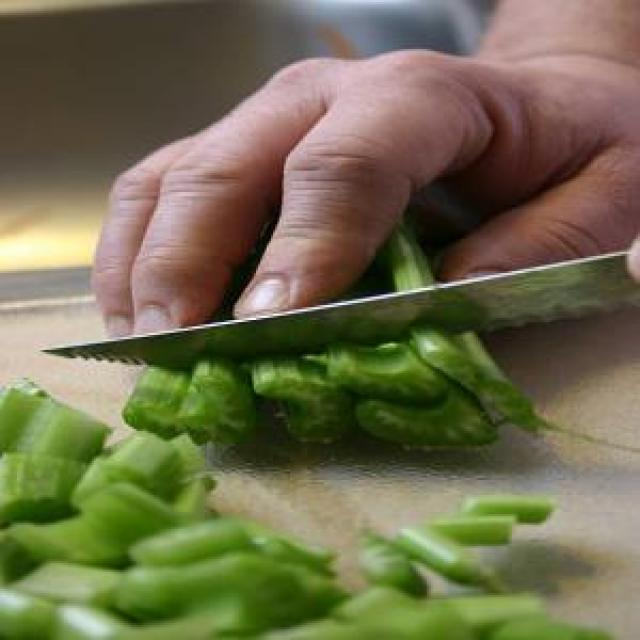knife: (36, 241, 638, 380)
